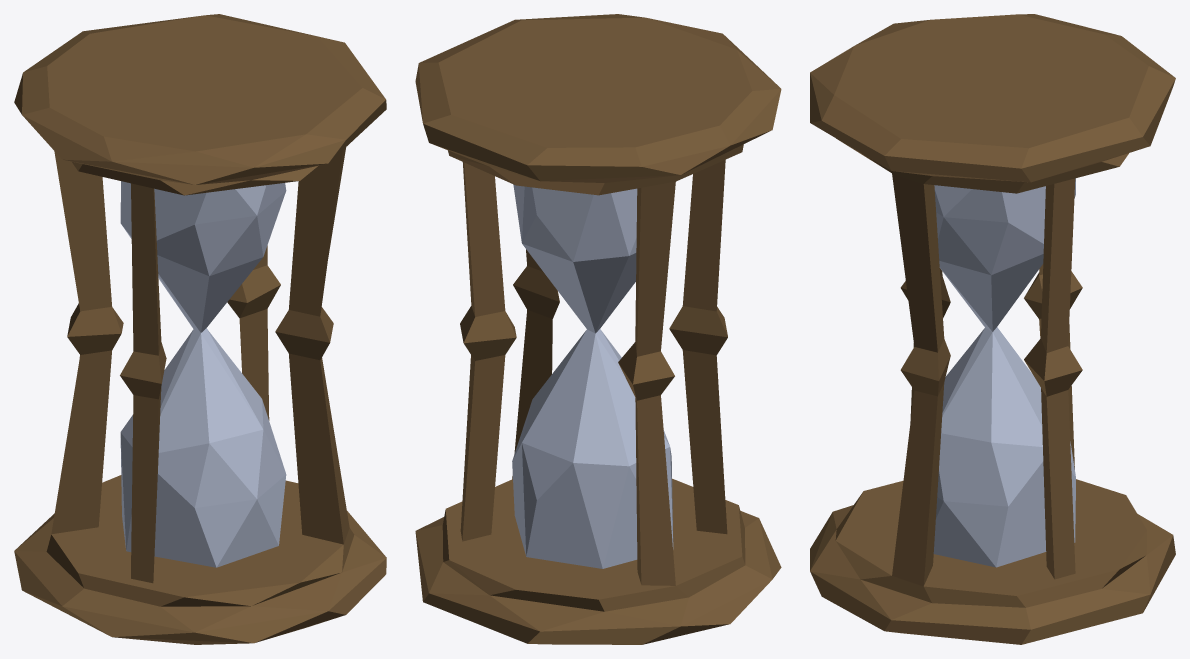
Rendered from hourglass.fbx.
3 renders of one model, left to right at view 1: azimuth 30°, elevation 25°; view 2: azimuth 150°, elevation 25°; view 3: azimuth 270°, elevation 25°, orthographic.
Parts seen in each view (by area): view 1: Cylinder; view 2: Cylinder; view 3: Cylinder.
Boxes of the visible parts, x1,y1,x2,y2 form: Cylinder: (14, 14, 386, 644); Cylinder: (415, 14, 781, 644); Cylinder: (810, 14, 1175, 644).
Bounding box in the file's own units: 199 × 296 × 199.
